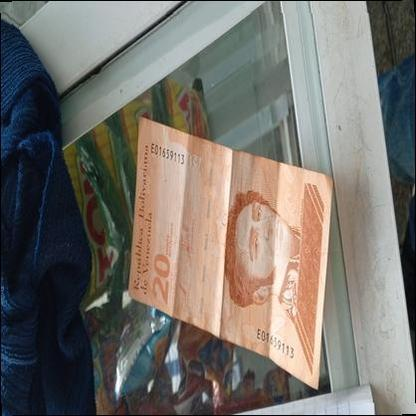twenty-front-vef: (128, 114, 334, 390)
